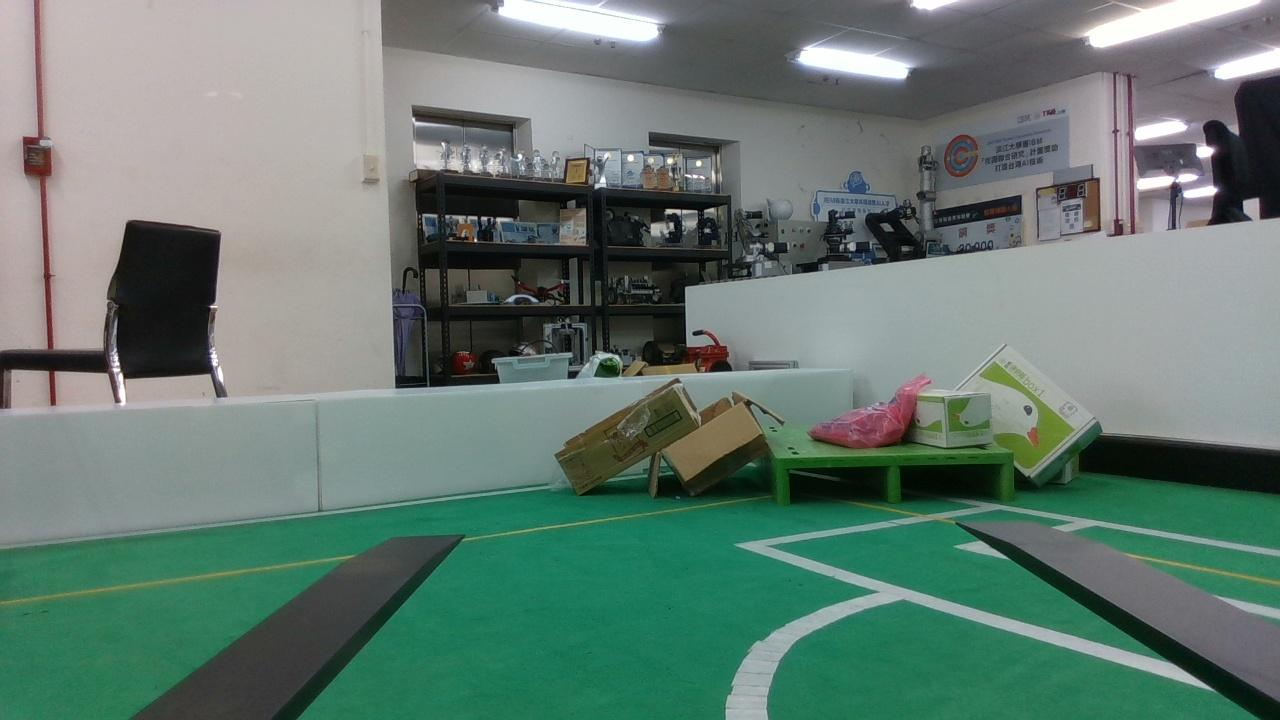Pallet: (775, 448, 1015, 504)
